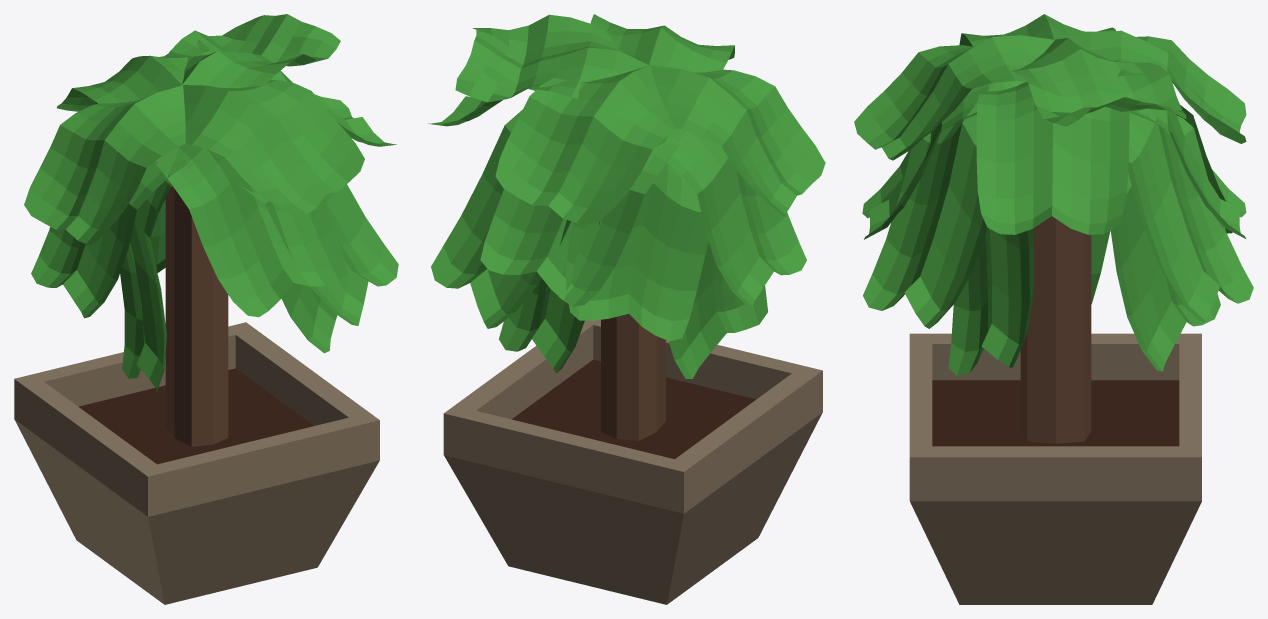
The model's file is plant-leaves.gltf.
The picture shows the model from 3 angles, left to right: view 1: azimuth 30°, elevation 25°; view 2: azimuth 150°, elevation 25°; view 3: azimuth 270°, elevation 25°; orthographic projection. The views are drawn at different scales.
Parts seen in each view (by area): view 1: Palm Tree Leaves, Cube.003, Cube.002; view 2: Palm Tree Leaves, Cube.003, Cube.002; view 3: Palm Tree Leaves, Cube.003, Cube.002.
Boxes of the visible parts, x1,y1,x2,y2 form: Palm Tree Leaves: (24,14,398,392); Cube.003: (14,322,379,604); Cube.002: (165,186,228,446); Palm Tree Leaves: (428,14,825,379); Cube.003: (443,319,822,604); Cube.002: (601,314,665,440); Palm Tree Leaves: (854,14,1253,375); Cube.003: (909,333,1201,604); Cube.002: (1020,216,1091,443).
Bounding box in the file's own units: 0.5011 × 0.7041 × 0.4793.
